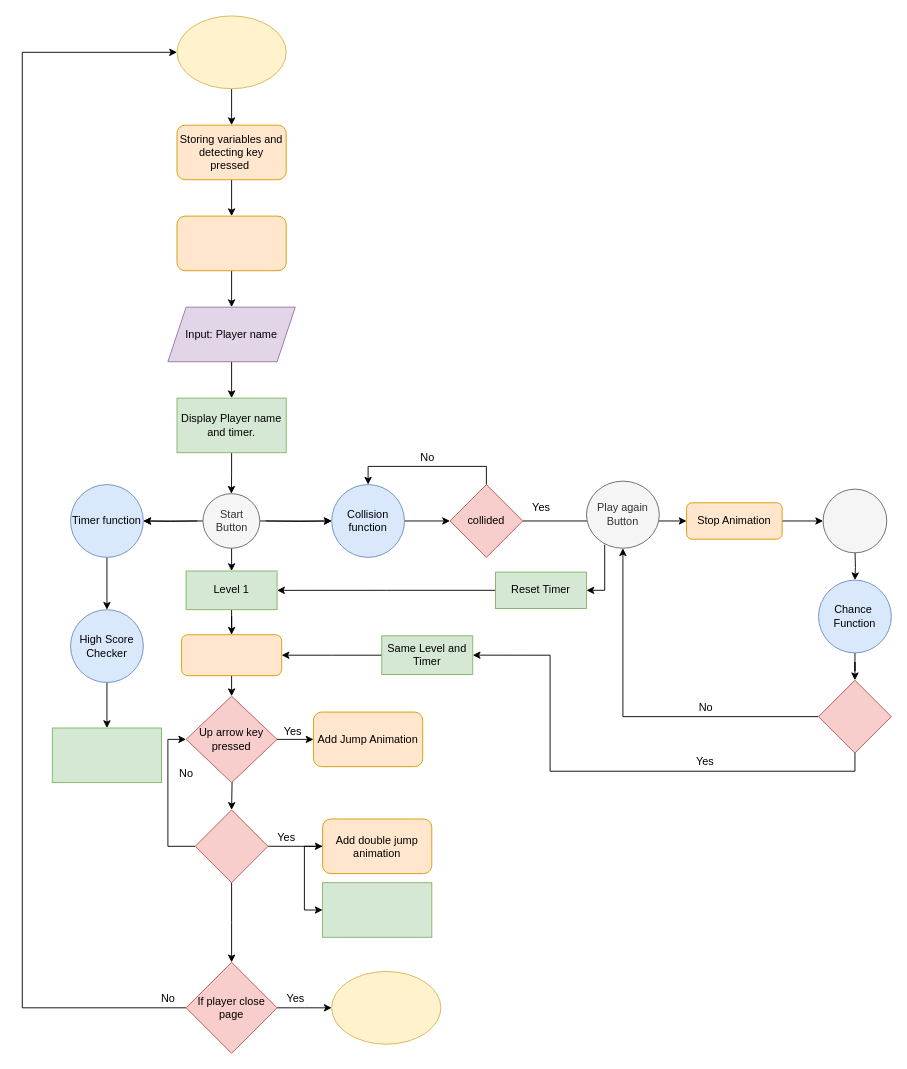
This 907x1069 diagram has some shape labels left out. Here are the shapes that lost their labels. From the top down, the centre of each, then its label:
point 231,52: START
point 231,243: Removing animation
point 854,520: Chance Button
point 231,655: Start Animation
point 854,716: Guess correct?
point 106,755: Display Current High Score
point 231,846: Timer = 10s
point 377,909: Level 2
point 386,1007: END
